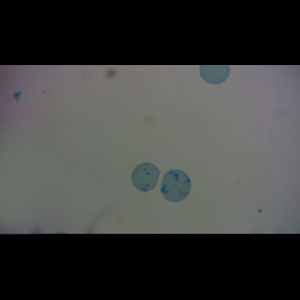aggregate reticulocyte: (159, 169, 192, 203)
punctate reticulocyte: (131, 162, 162, 192)
